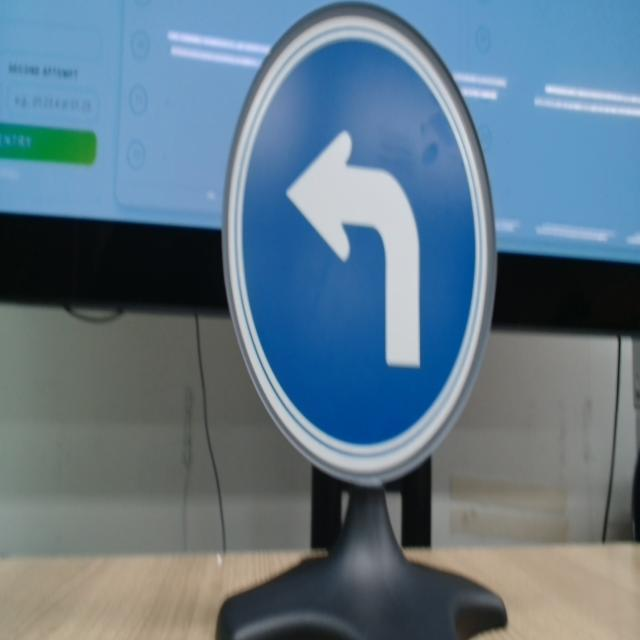left_direction: (214, 6, 505, 506)
